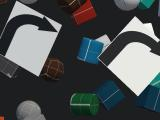Right: (97, 16, 160, 96), (0, 1, 62, 76)
